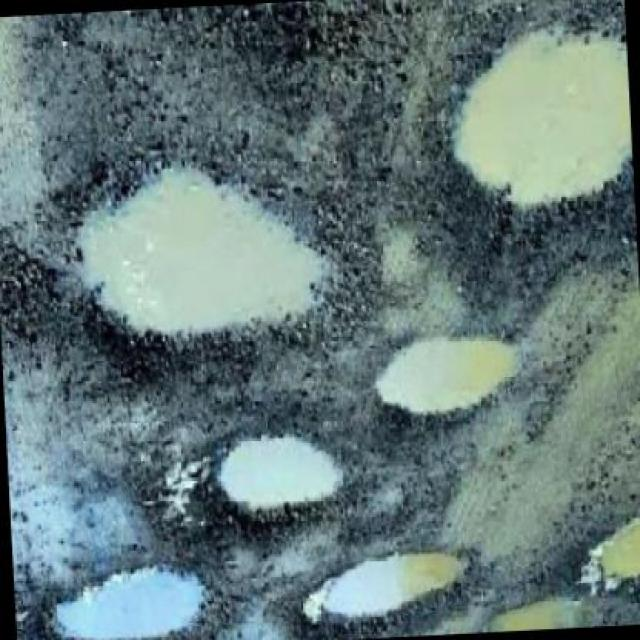pothole1: (54, 133, 358, 389), (428, 16, 634, 244), (279, 544, 486, 638), (370, 326, 533, 442), (201, 423, 356, 542), (28, 557, 240, 638), (576, 509, 638, 600), (482, 594, 588, 631)
